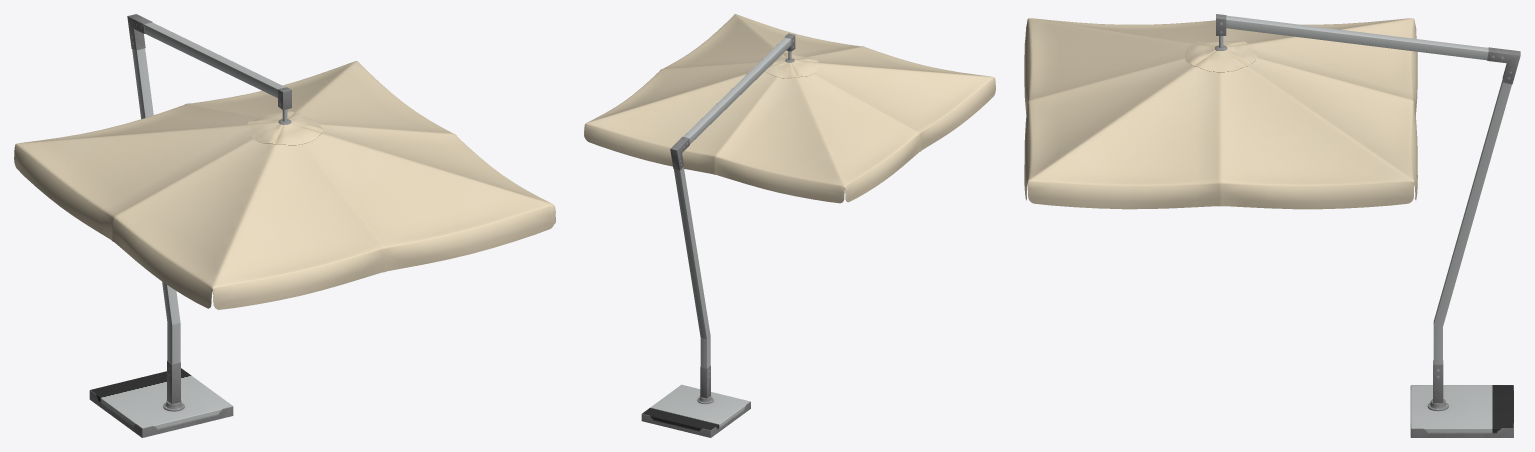
File: PoolBambrella02.FBX
3 views of the same model, side by side, from view 1: azimuth 30°, elevation 25°; view 2: azimuth 150°, elevation 25°; view 3: azimuth 270°, elevation 25° (orthographic). The views are drawn at different scales.
Parts seen in each view (by area): view 1: PoolBambrella02; view 2: PoolBambrella02; view 3: PoolBambrella02.
Boxes of the visible parts, x1=… form: PoolBambrella02: x1=14, y1=14, x2=555, y2=437; PoolBambrella02: x1=584, y1=14, x2=995, y2=437; PoolBambrella02: x1=1024, y1=14, x2=1520, y2=437.
Size of what is drawn, in the model's own units: 2.72 by 3.06 by 3.44.
